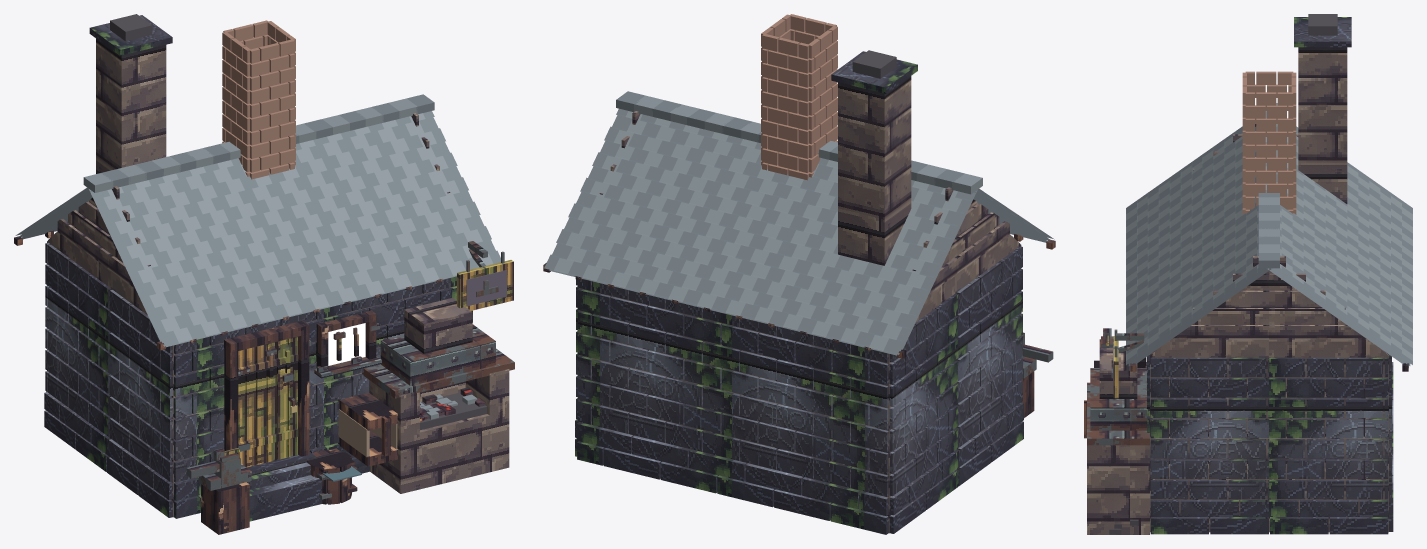
Rendered from smed.glb.
The picture shows the model from 3 angles, left to right: view 1: azimuth 30°, elevation 25°; view 2: azimuth 150°, elevation 25°; view 3: azimuth 270°, elevation 25°; orthographic projection. The views are drawn at different scales.
Parts seen in each view (by area): view 1: smed_sten, smed_takpanna_mörk, smed_takpanna_ljus, smed_mur, smed_mörkt_virke, smed_tegel, smed_järn, smed_ljust_virke, smed_fot_sten, smed_kol, smed_lera, smed_fönster (+2 smaller); view 2: smed_sten, smed_takpanna_mörk, smed_takpanna_ljus, smed_mur, smed_fot_sten, smed_tegel, smed_mörkt_virke, smed_kol, smed_järn; view 3: smed_sten, smed_mur, smed_takpanna_mörk, smed_takpanna_ljus, smed_fot_sten, smed_tegel, smed_järn, smed_kol, smed_sockel, smed_ljust_virke.
Boxes of the visible parts, x1,y1,x2,y2 form: smed_sten: (45,15,472,521); smed_takpanna_mörk: (15,94,500,347); smed_takpanna_ljus: (29,98,493,419); smed_mur: (48,38,509,493); smed_mörkt_virke: (14,230,442,534); smed_tegel: (222,20,295,179); smed_järn: (186,241,514,499); smed_ljust_virke: (224,260,513,467); smed_fot_sten: (44,391,369,518); smed_kol: (110,14,487,430); smed_lera: (337,409,397,457); smed_fönster: (328,323,365,365); smed_sten: (576,51,1022,496); smed_takpanna_mörk: (544,91,1054,356); smed_takpanna_ljus: (554,95,1039,350); smed_mur: (578,76,1020,495); smed_fot_sten: (575,402,1023,534); smed_tegel: (761,14,837,180); smed_mörkt_virke: (543,234,1055,417); smed_kol: (852,50,896,78); smed_järn: (1021,332,1053,378); smed_sten: (1147,17,1391,499); smed_mur: (1087,47,1388,534); smed_takpanna_mörk: (1126,111,1412,367); smed_takpanna_ljus: (1126,103,1412,360); smed_fot_sten: (1146,362,1393,534); smed_tegel: (1242,71,1296,214); smed_järn: (1087,328,1149,445); smed_kol: (1109,14,1337,534); smed_sockel: (1150,498,1388,532); smed_ljust_virke: (1105,335,1140,398).
Bounding box in the file's own units: 6.04 × 6.96 × 5.23.
15 materials, 6 textured.
